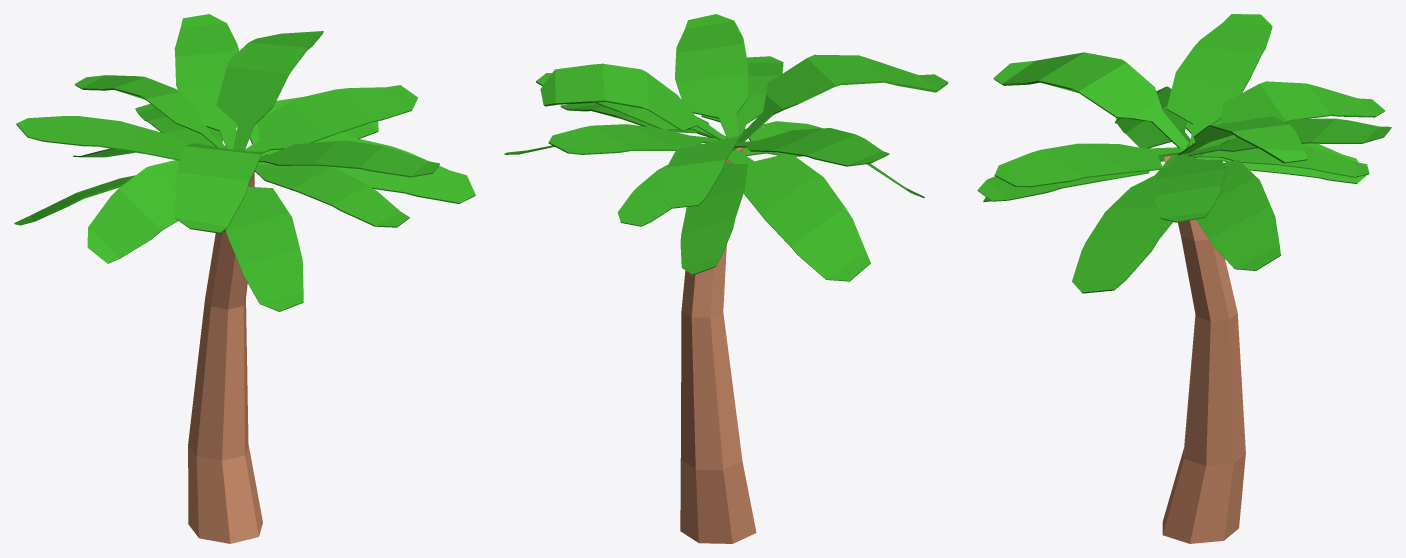
The model's file is PalmTree3.fbx.
3 renders of one model, left to right at view 1: azimuth 30°, elevation 25°; view 2: azimuth 150°, elevation 25°; view 3: azimuth 270°, elevation 25°, orthographic. The views are drawn at different scales.
Parts seen in each view (by area): view 1: Palm tree3, leave.034, leave.044, leave.039, leave.043, leave.038, leave.033, leave.041, leave.040, leave.031, leave.032, leave.042 (+3 smaller); view 2: Palm tree3, leave.035, leave.031, leave.039, leave.043, leave.036, leave.033, leave.040, leave.042, leave.030, leave.041, leave.044 (+2 smaller); view 3: Palm tree3, leave.040, leave.043, leave.032, leave.037, leave.031, leave.042, leave.044, leave.039, leave.033, leave.030, leave.041 (+2 smaller).
Part boxes in pixels (x1,y1,x2,y2): Palm tree3: [188, 172, 262, 543]; leave.034: [225, 186, 303, 311]; leave.044: [244, 85, 417, 153]; leave.039: [216, 31, 323, 150]; leave.043: [175, 143, 261, 233]; leave.038: [87, 160, 179, 263]; leave.033: [174, 14, 238, 149]; leave.041: [254, 164, 409, 227]; leave.040: [16, 116, 189, 160]; leave.031: [259, 140, 439, 177]; leave.032: [258, 135, 475, 203]; leave.042: [74, 75, 225, 148]; Palm tree3: [680, 147, 756, 543]; leave.035: [727, 150, 870, 281]; leave.031: [675, 14, 748, 138]; leave.039: [540, 63, 726, 139]; leave.043: [732, 54, 948, 151]; leave.036: [680, 161, 747, 274]; leave.033: [548, 124, 719, 154]; leave.040: [734, 128, 889, 166]; leave.042: [662, 133, 746, 208]; leave.030: [617, 165, 726, 226]; leave.041: [701, 56, 783, 135]; leave.044: [536, 73, 726, 137]; Palm tree3: [1162, 155, 1245, 543]; leave.040: [1166, 14, 1272, 146]; leave.043: [993, 52, 1188, 149]; leave.032: [1072, 155, 1174, 293]; leave.037: [1189, 156, 1280, 270]; leave.031: [994, 143, 1184, 187]; leave.042: [1191, 81, 1385, 158]; leave.044: [1154, 153, 1226, 222]; leave.039: [1178, 116, 1307, 163]; leave.033: [1187, 118, 1391, 156]; leave.030: [1189, 145, 1369, 177]; leave.041: [977, 149, 1184, 201].
Bounding box in the file's own units: 610 × 678 × 573.
